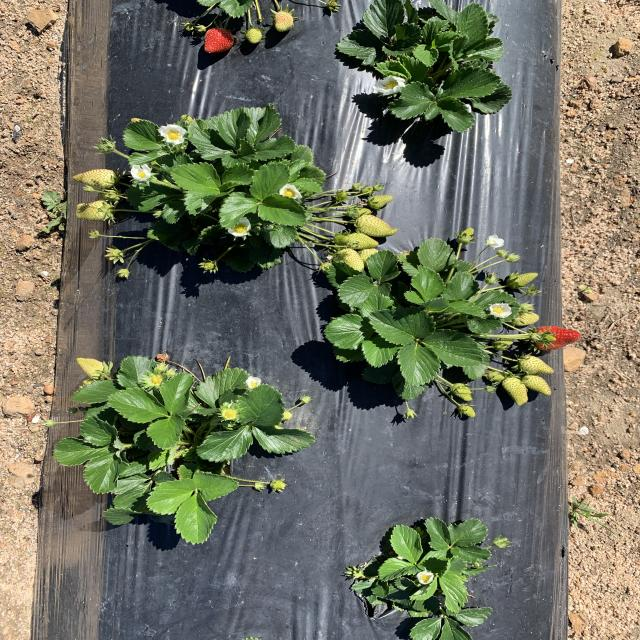unripe: (530, 320, 582, 351), (201, 24, 239, 54)
